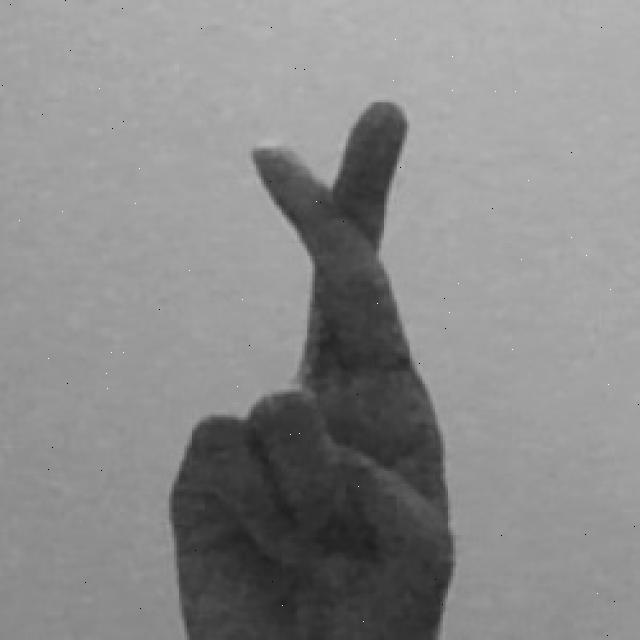R: (169, 97, 461, 640)
